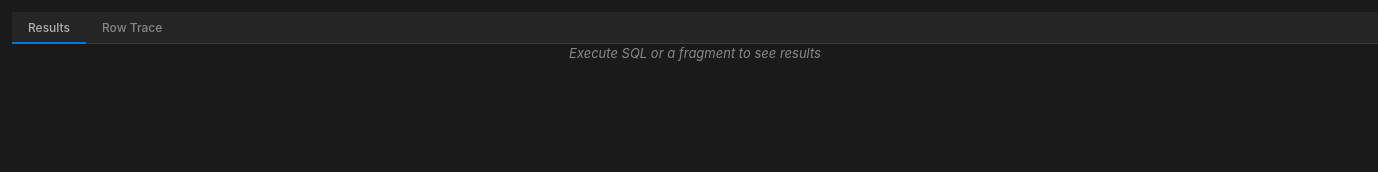
Scenario: ResultsPanel › Data mode › shows "Row Trace not available" when rowTrace prop is omitted
Switch to Row Trace tab
Click the tab "Row Trace" at [132, 28], box top-left (86, 12), bottom-right (178, 44)
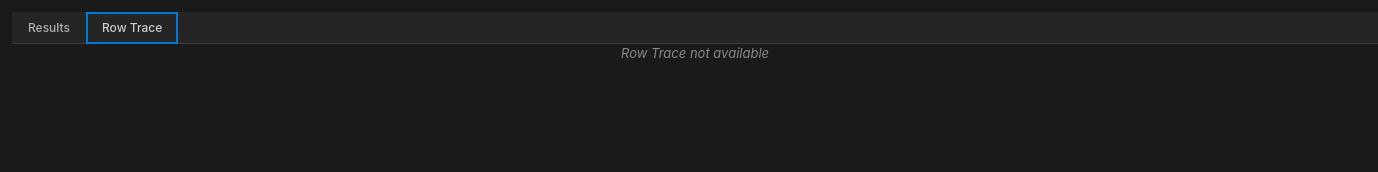
Check: the text "Row Trace not available" is shown, box top-left (621, 45), bottom-right (769, 61)
